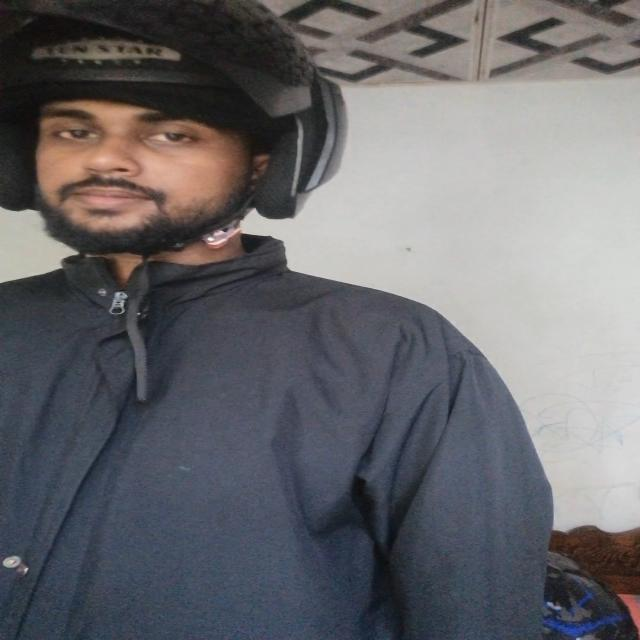Helmet_Wearer: (0, 0, 381, 256)
Jacket_Wearer: (0, 237, 548, 640)
Person: (1, 0, 563, 636)
